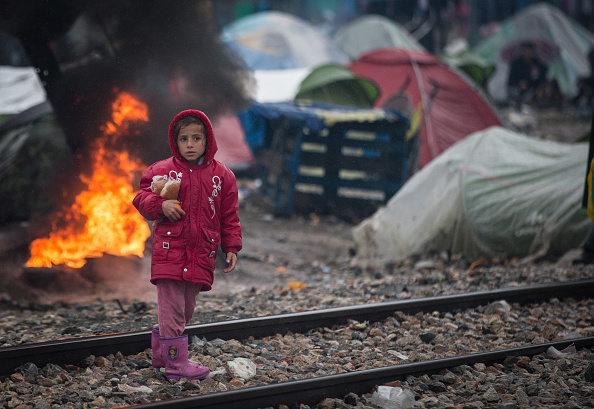em pe: (122, 104, 238, 386)
